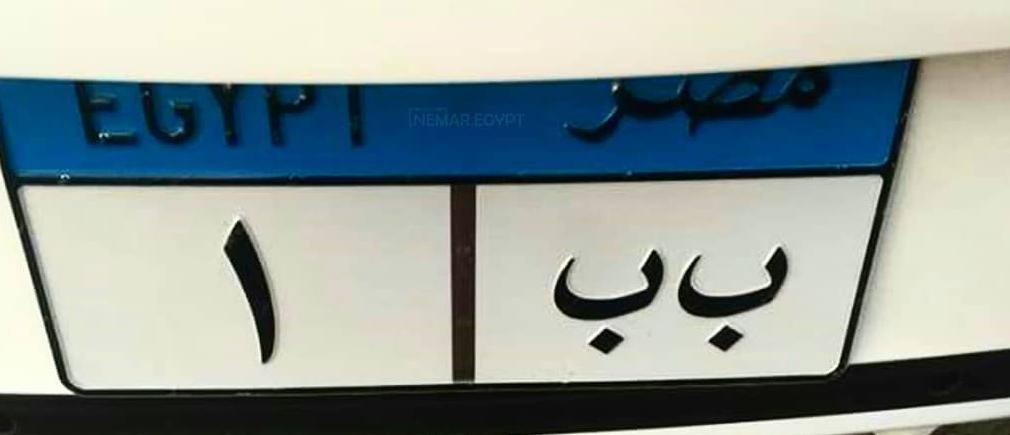1: (206, 214, 300, 379)
baa: (541, 247, 667, 366), (671, 239, 797, 356)
